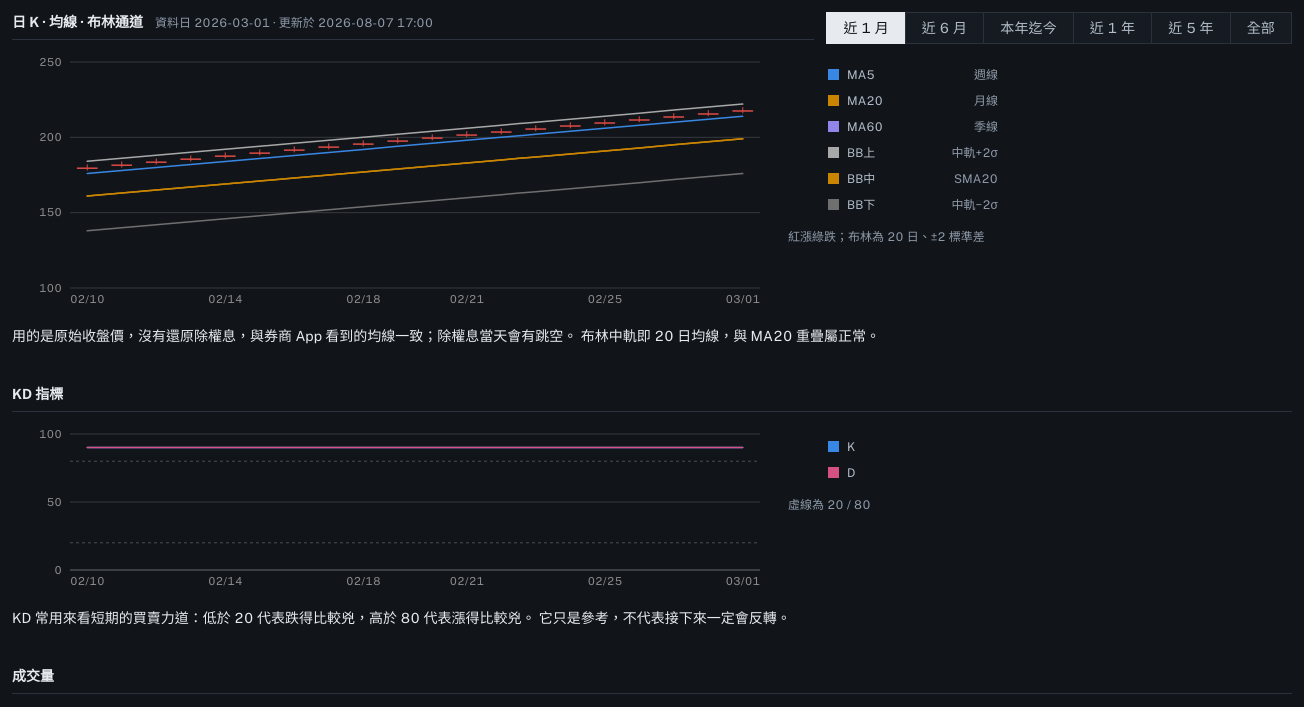
Test: TechnicalTab 長區間 › 切回近 1 年時不再打 Edge Function，改用檔案的列
Step 1. Click the button "近 5 年" → click(1190, 28), box 1151,12 -> 1230,44
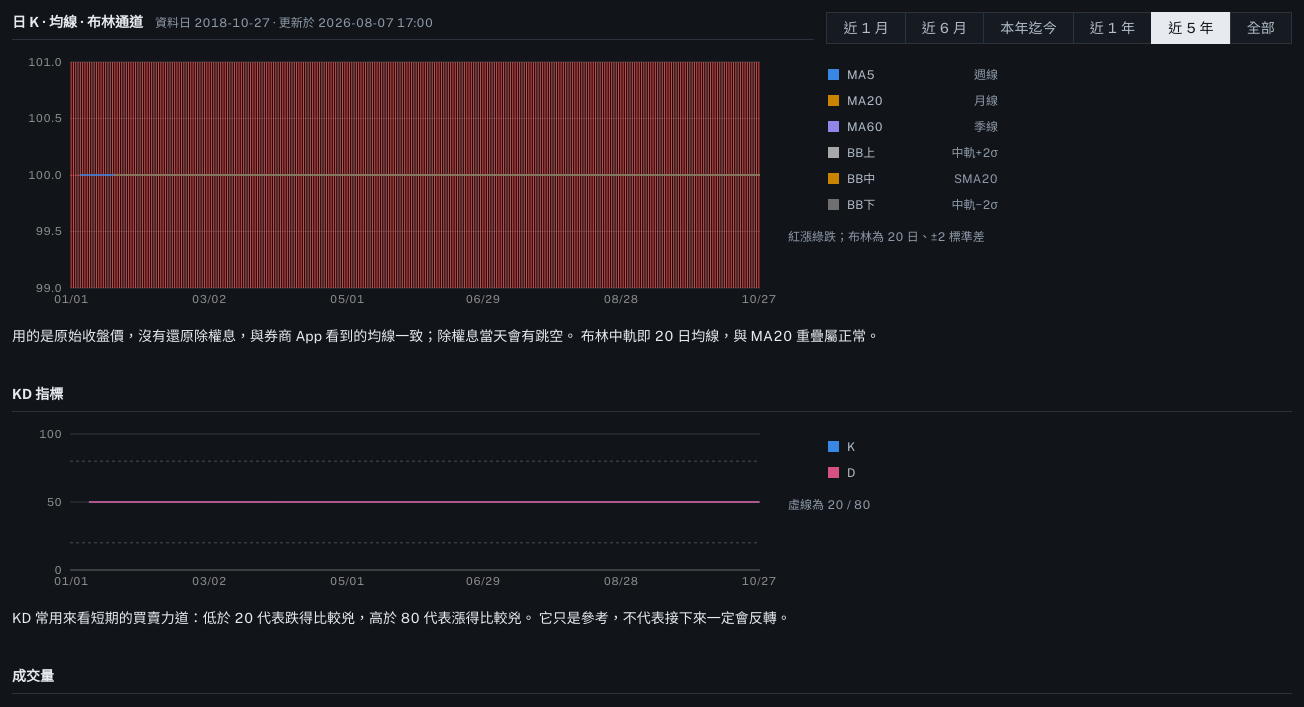
Step 2. Click the button "近 1 年" → click(1112, 28), box 1073,12 -> 1151,44
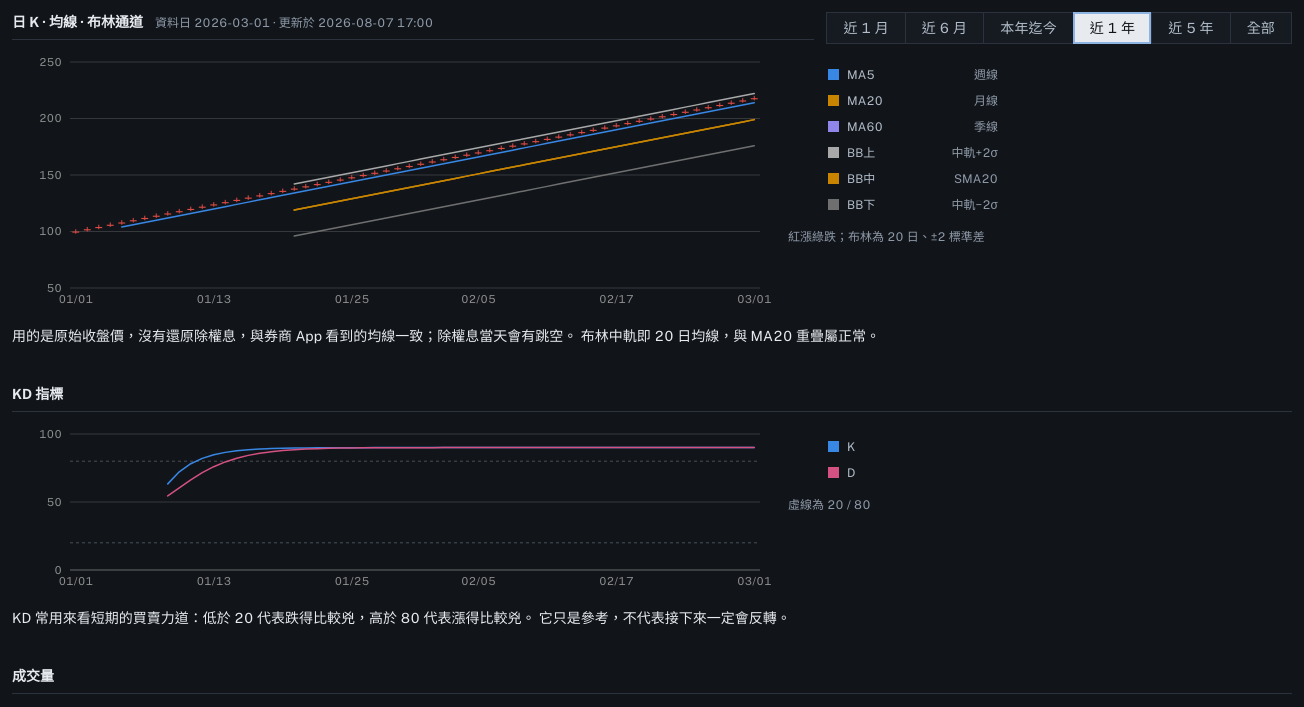
Result: the text "每日成交量矩陣" no longer shows "2018-"
